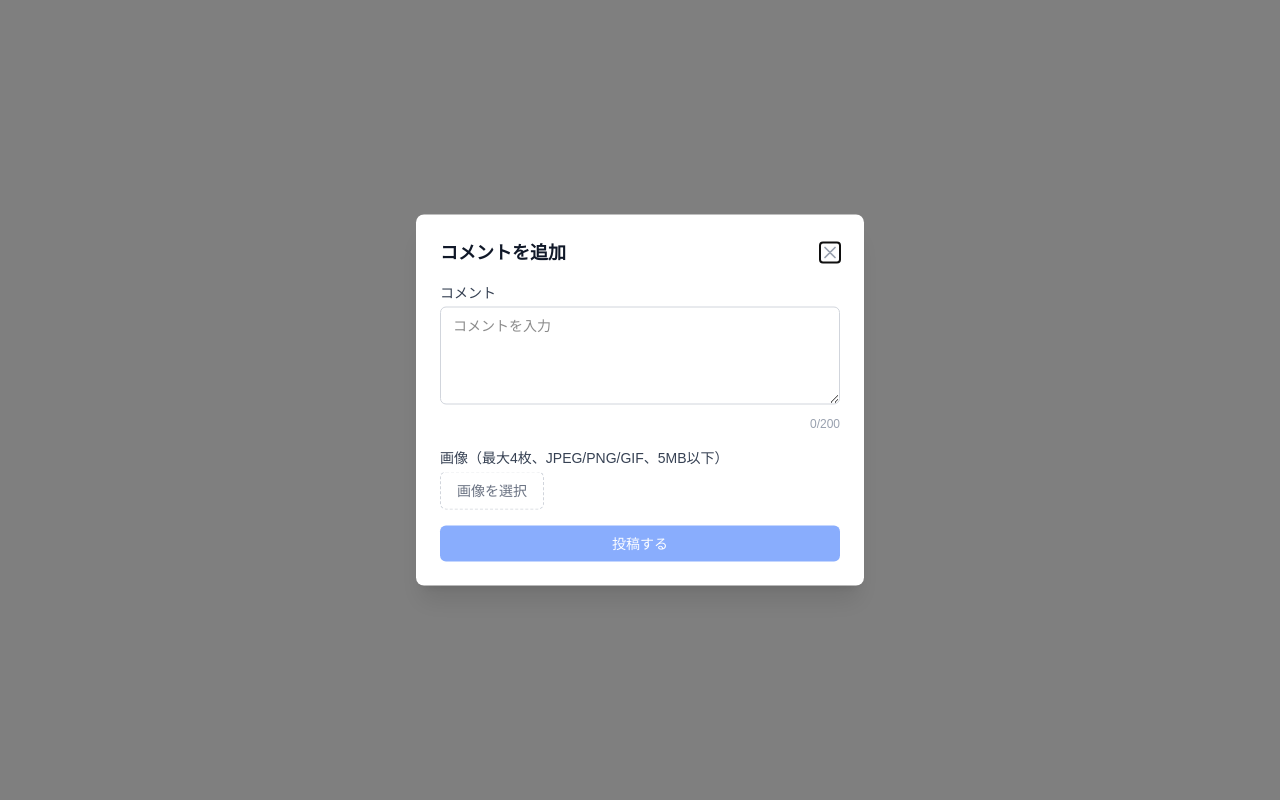
Test case: AddCommentModal › 有効な入力後に送信ボタンが有効になること
The image size is (1280, 800).
Type "テストコメント" into the text box with test id "comment-content-input" at (640, 356), box [440,306,840,404]
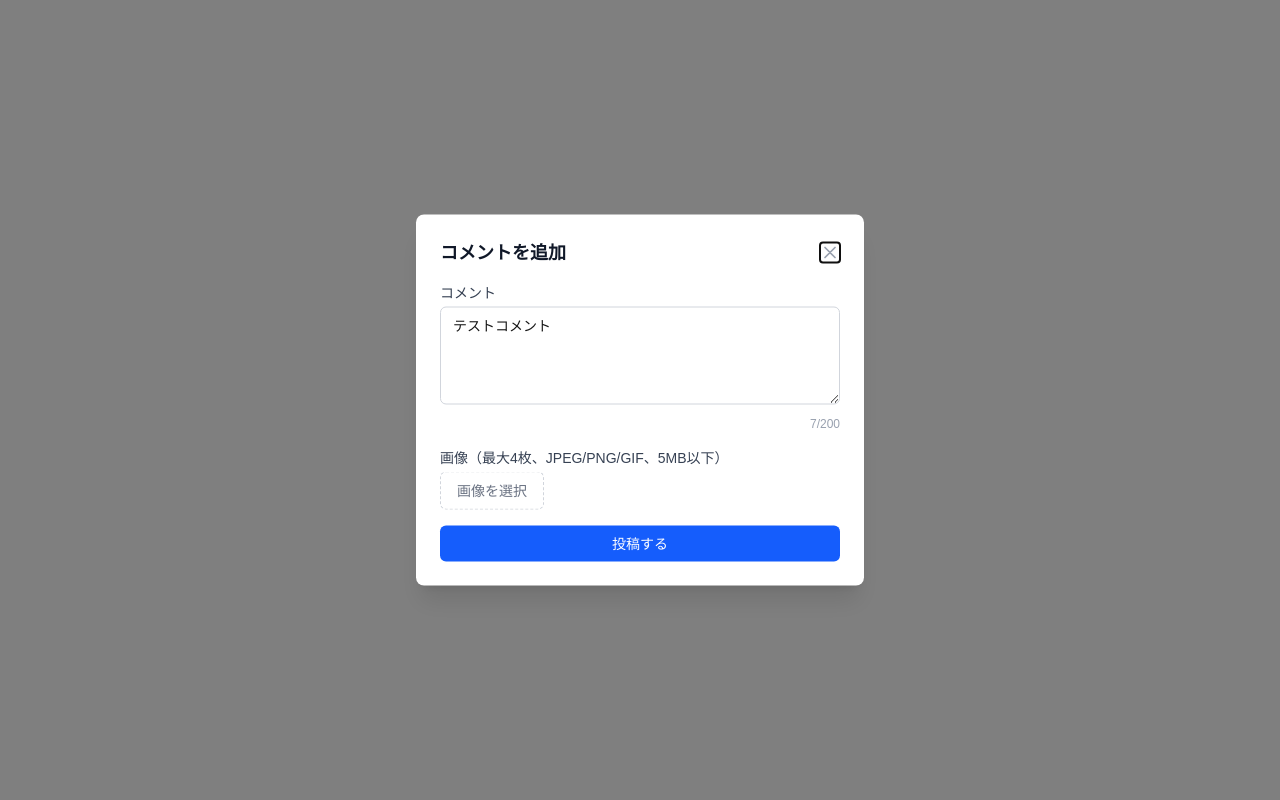
Check: the button with test id "add-comment-submit" is enabled, box [440,526,840,562]
